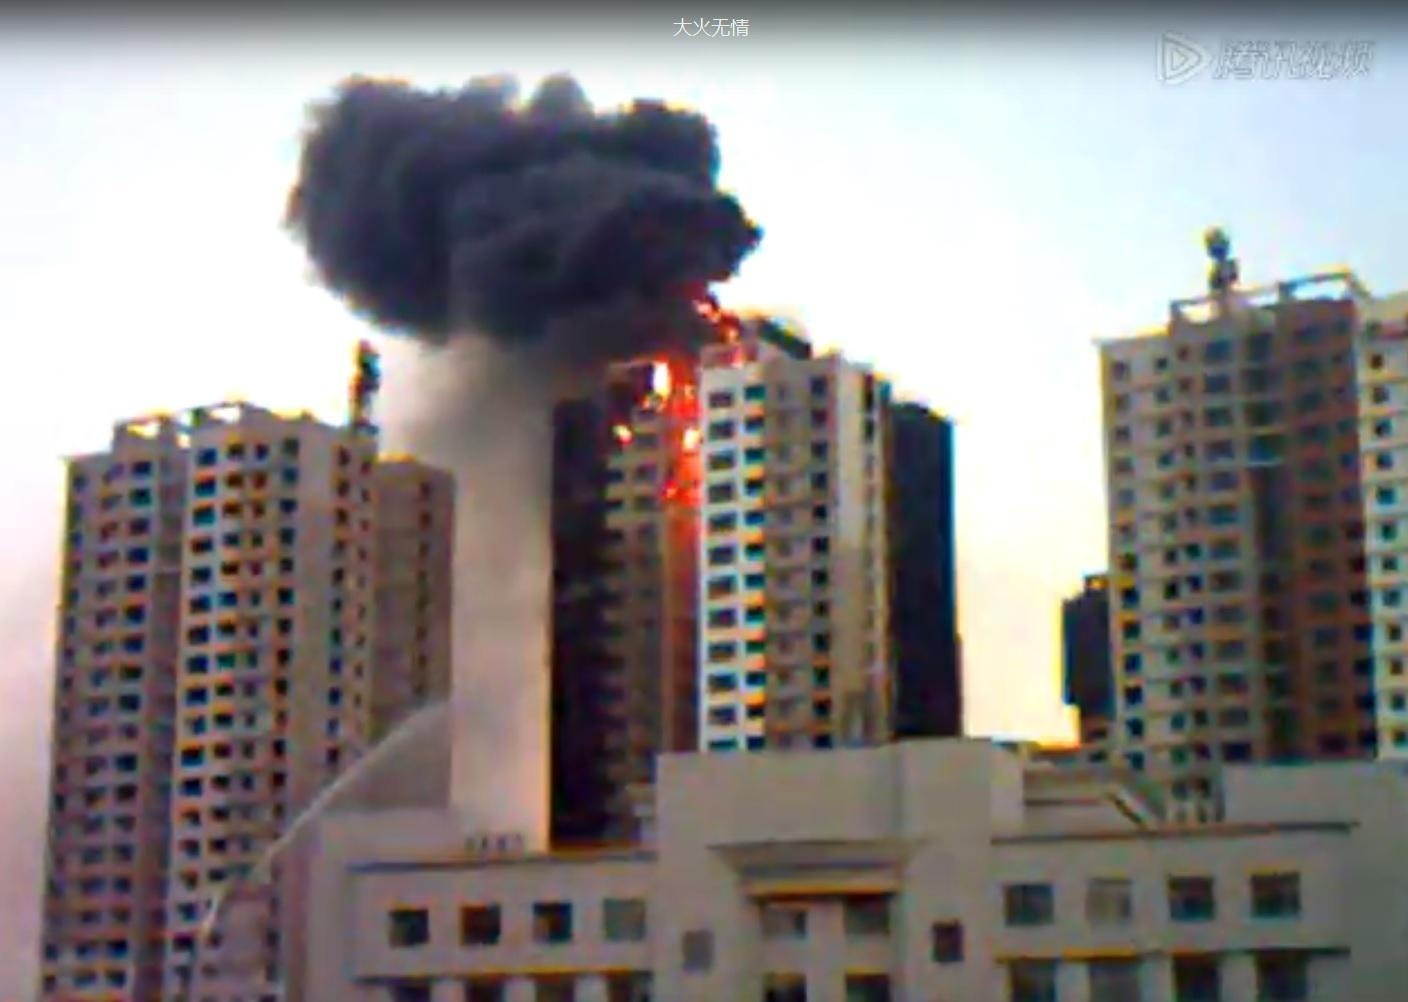fire: (643, 357, 673, 402)
